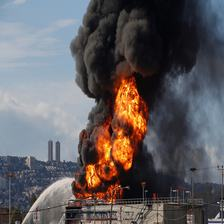fire: (62, 1, 199, 198)
